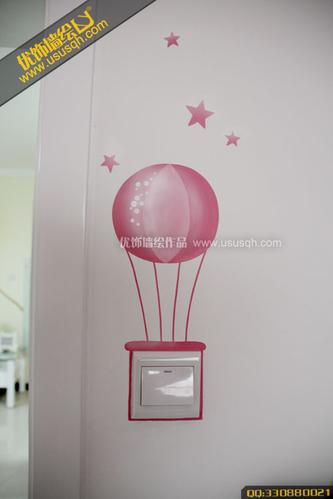switch: (136, 362, 198, 409)
